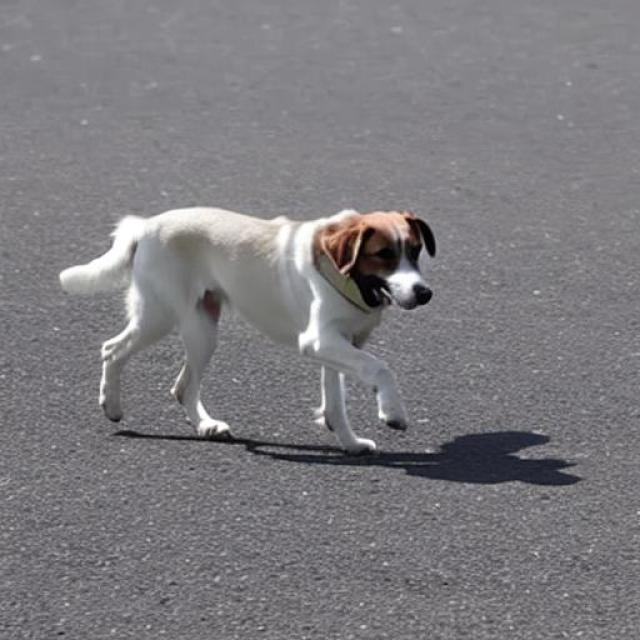Dog: (59, 206, 437, 453)
